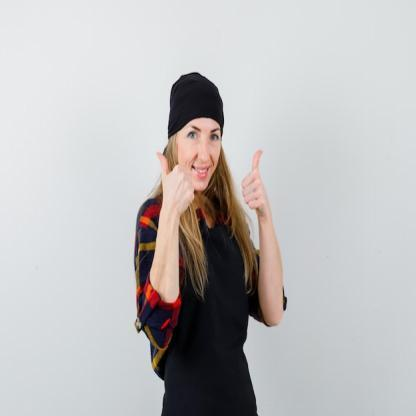thumb_up: (150, 146, 197, 219), (238, 148, 268, 214)
